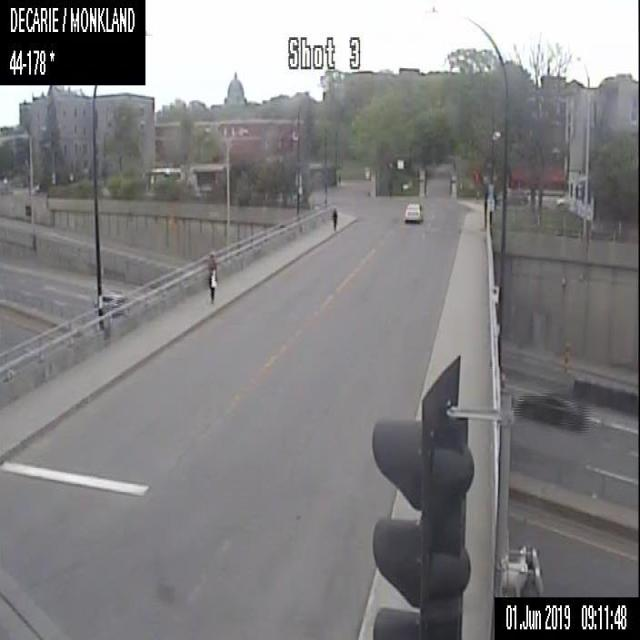pedestrian: (208, 248, 217, 304), (332, 207, 337, 230)
vehicle: (516, 392, 583, 429), (404, 200, 422, 221)
